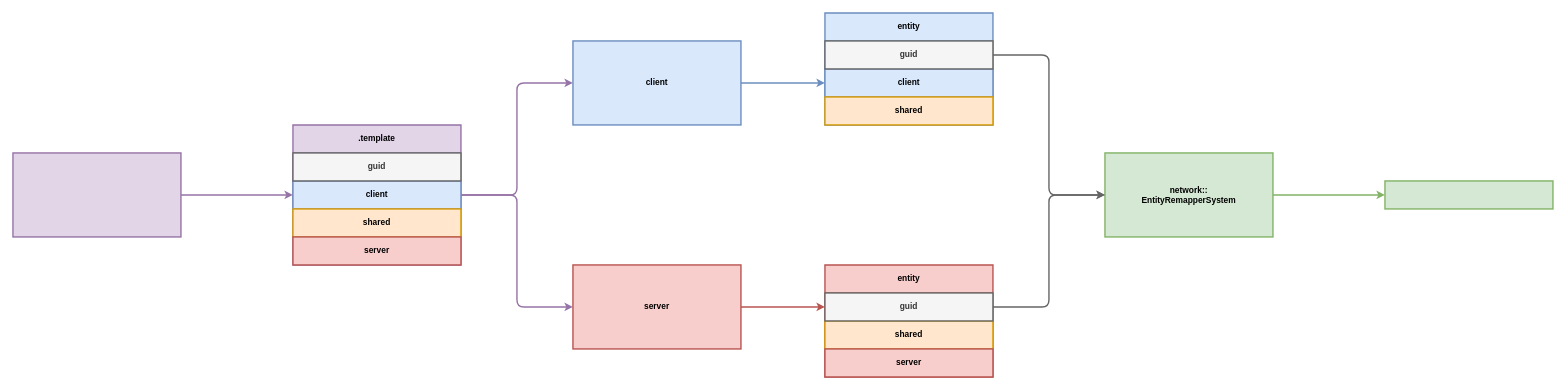
This 1565x389 diagram has some shape labels left out. Here are the shapes that lost their labels. From the top down, the centre of each, then its label:
the point at 96,194: editor
the point at 1468,194: network::EntityRemapperComponent
